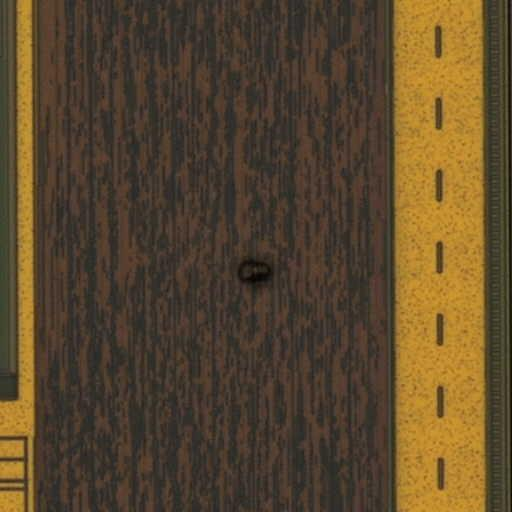PIQ PARTICLE: (231, 249, 279, 297)
